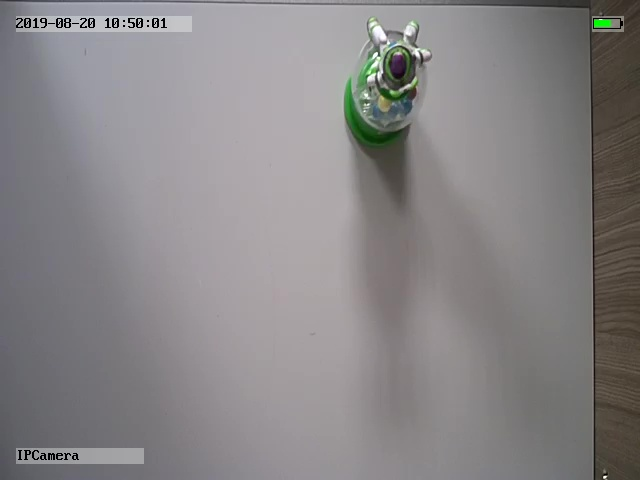buzz: (342, 15, 432, 152)
